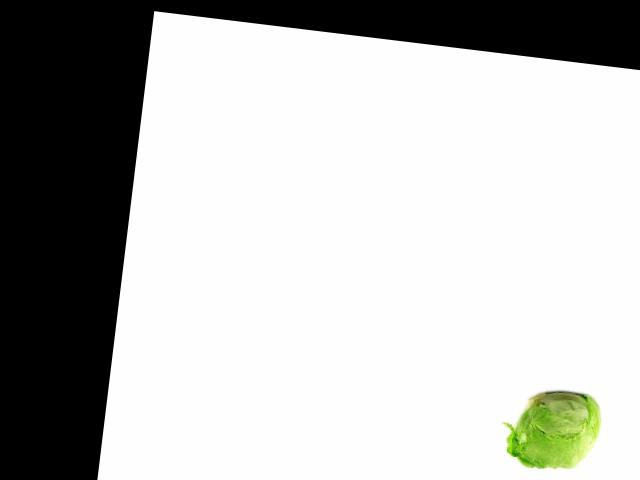lettuce: (507, 382, 607, 479)
